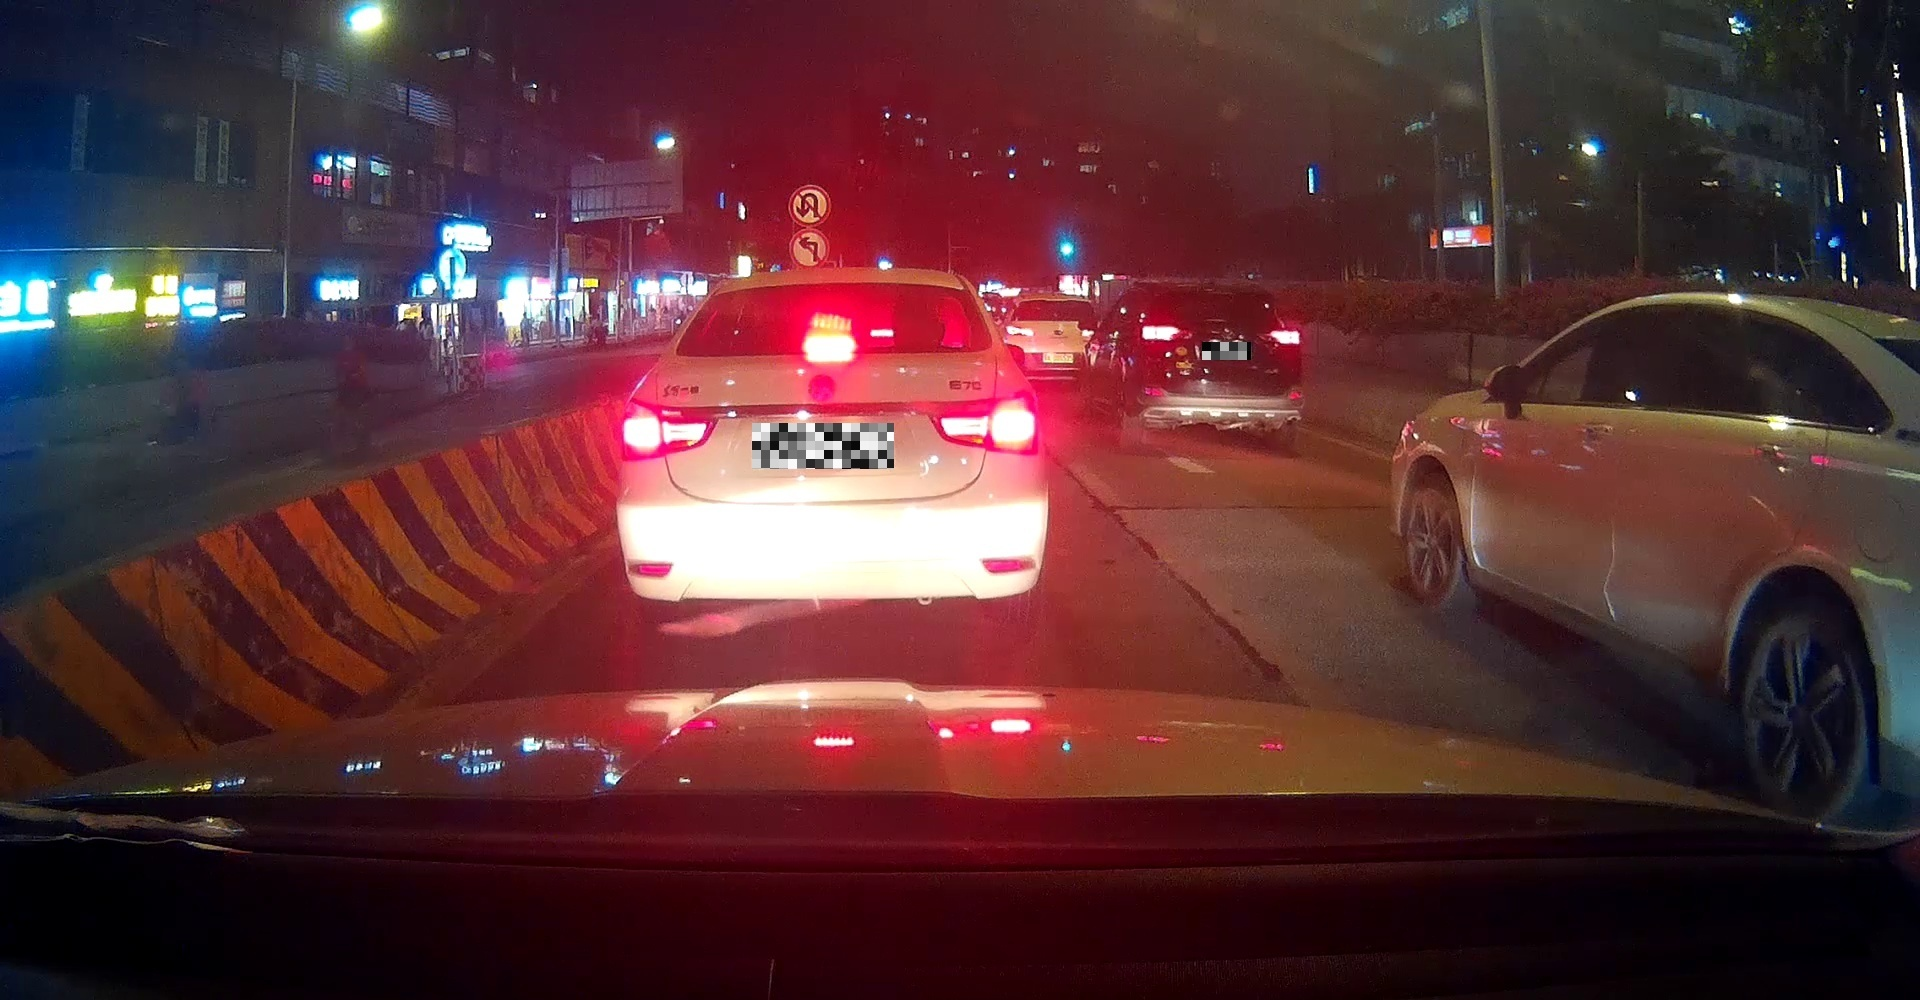L_light: (620, 398, 717, 461), (1142, 326, 1180, 340)
R_light: (926, 390, 1037, 454), (1266, 329, 1298, 344)
T_light: (801, 334, 857, 354), (1200, 291, 1227, 297)
night-brake: (616, 266, 1048, 643)
night-no: (1140, 282, 1302, 449)
plate_1: (752, 423, 894, 470)
plate_2: (1203, 341, 1251, 360)
